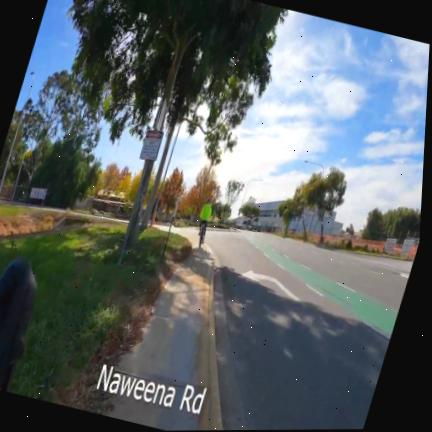Green_Bike_Lane: (247, 238, 398, 339)
